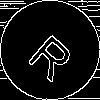R: (25, 25, 83, 84)
